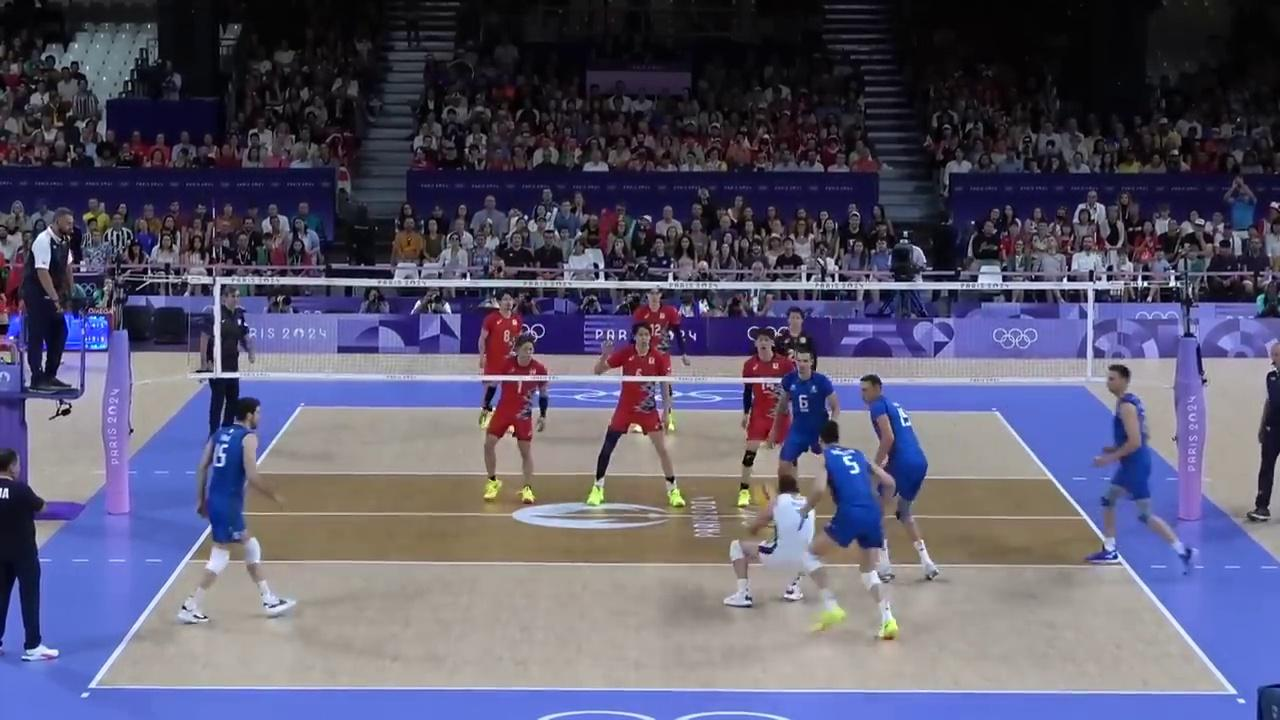ball: (750, 481, 778, 504)
